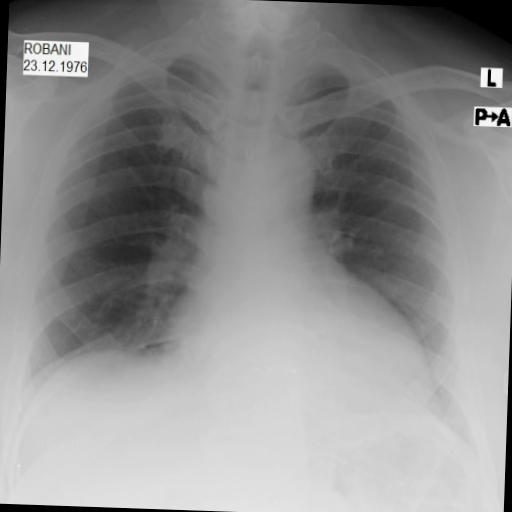kardiomegali: (143, 214, 448, 428)
